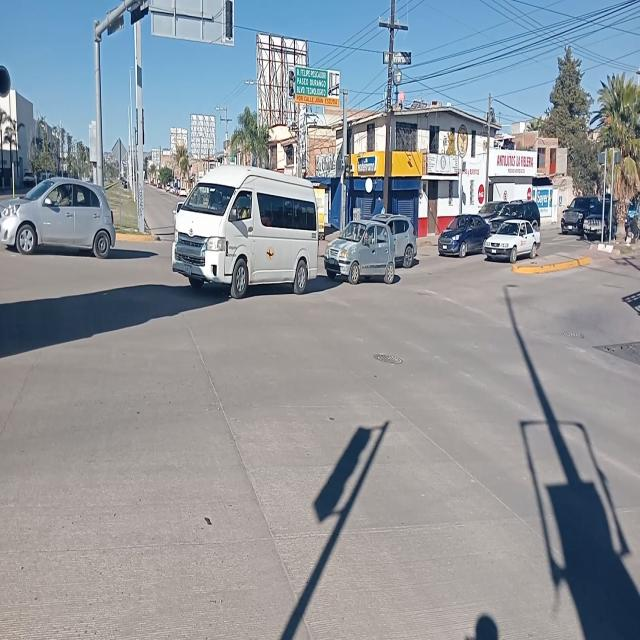Auto: (176, 160, 319, 296), (0, 179, 118, 256), (327, 221, 401, 283), (482, 216, 544, 265), (380, 208, 418, 268), (438, 212, 492, 253), (557, 194, 595, 236), (584, 203, 616, 244)
